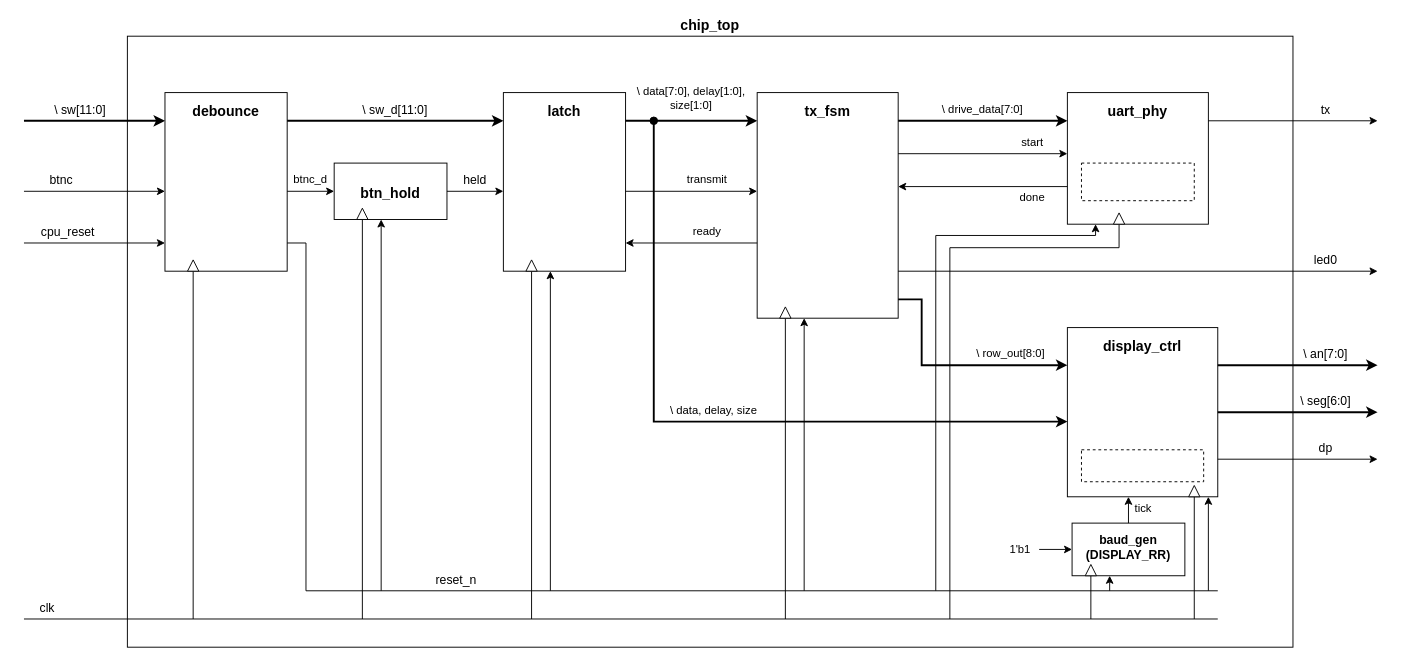
The diagram is 1402 pixels wide and 664 high, and some of its shapes have lost their labels. The centre of each missing label's shape, as x and y in pixels:
"baud_gen" belongs at (1137,181).
"seven_segment" belongs at (1142,465).
